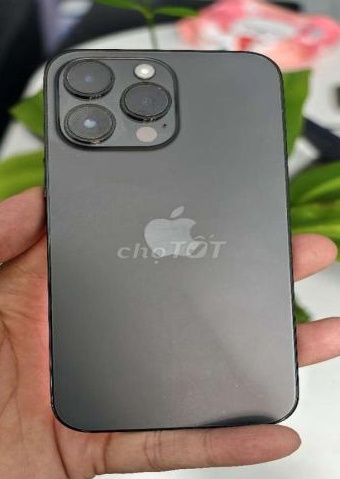scratch: (65, 101, 122, 147), (124, 79, 176, 122), (230, 381, 250, 398), (184, 391, 198, 399), (160, 393, 171, 400)
